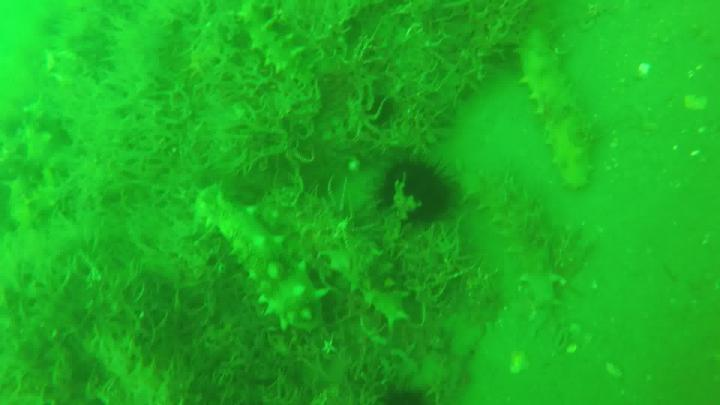echinus: (376, 158, 452, 230)
holothurian: (260, 192, 423, 326), (189, 187, 332, 328), (460, 174, 557, 330), (505, 23, 594, 189), (230, 4, 317, 85)
